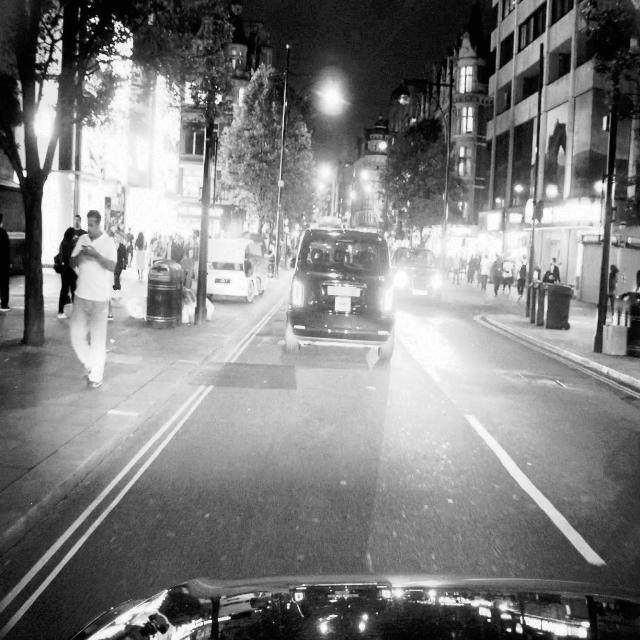Tree: (0, 0, 79, 366)
